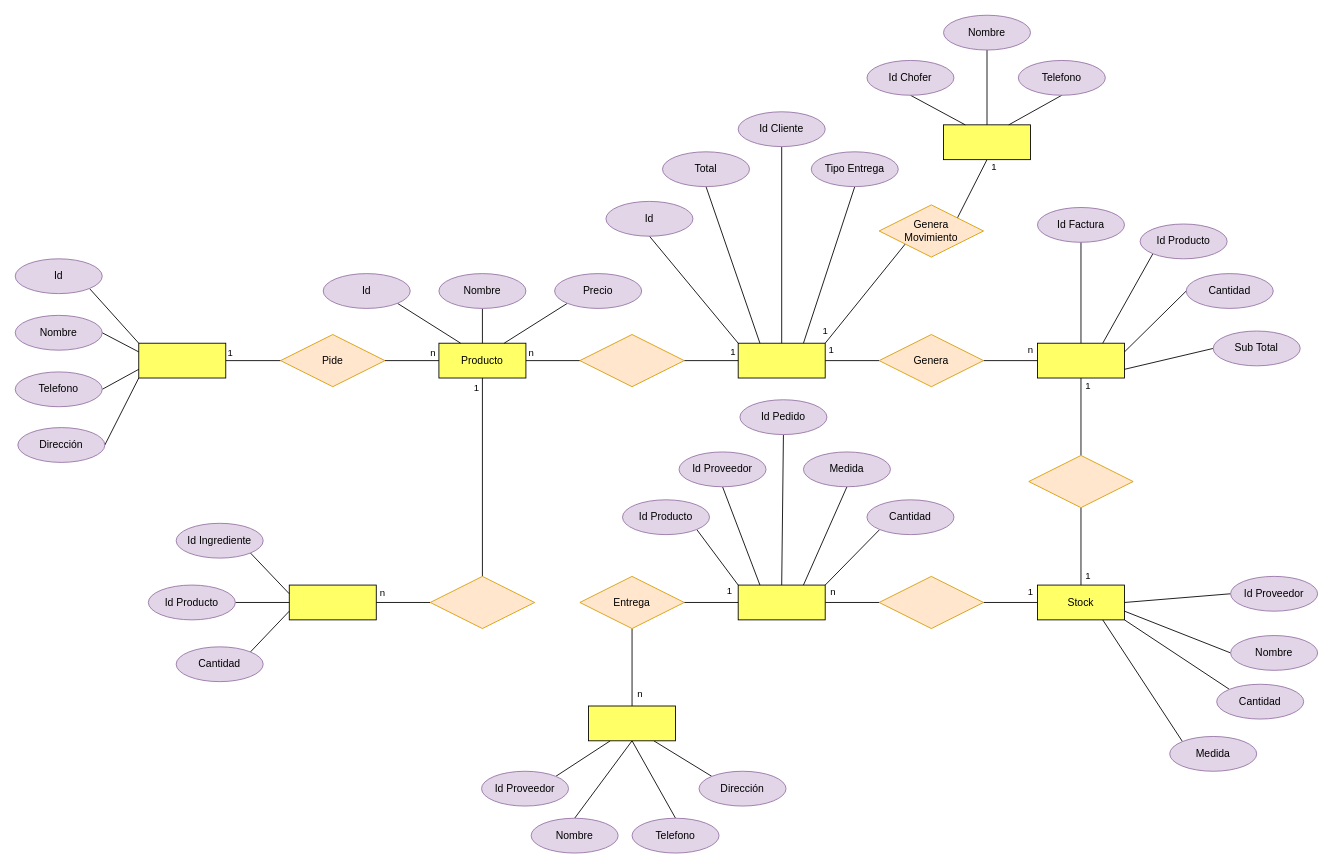
The diagram is 1333 pixels wide and 868 high, and some of its shapes have lost their labels. The centre of each missing label's shape, as x and y in pixels:
"Afecta" belongs at point (931, 602).
"Chofer" belongs at point (987, 142).
"Cliente" belongs at point (182, 360).
"Disminuye" belongs at point (1080, 481).
"Factura" belongs at point (781, 360).
"Ingredientes" belongs at point (332, 602).
"Pedido" belongs at point (781, 602).
"Proveedor" belongs at point (632, 723).
"Realiza" belongs at point (631, 360).
"Revisa" belongs at point (482, 602).
"Venta" belongs at point (1080, 360).
